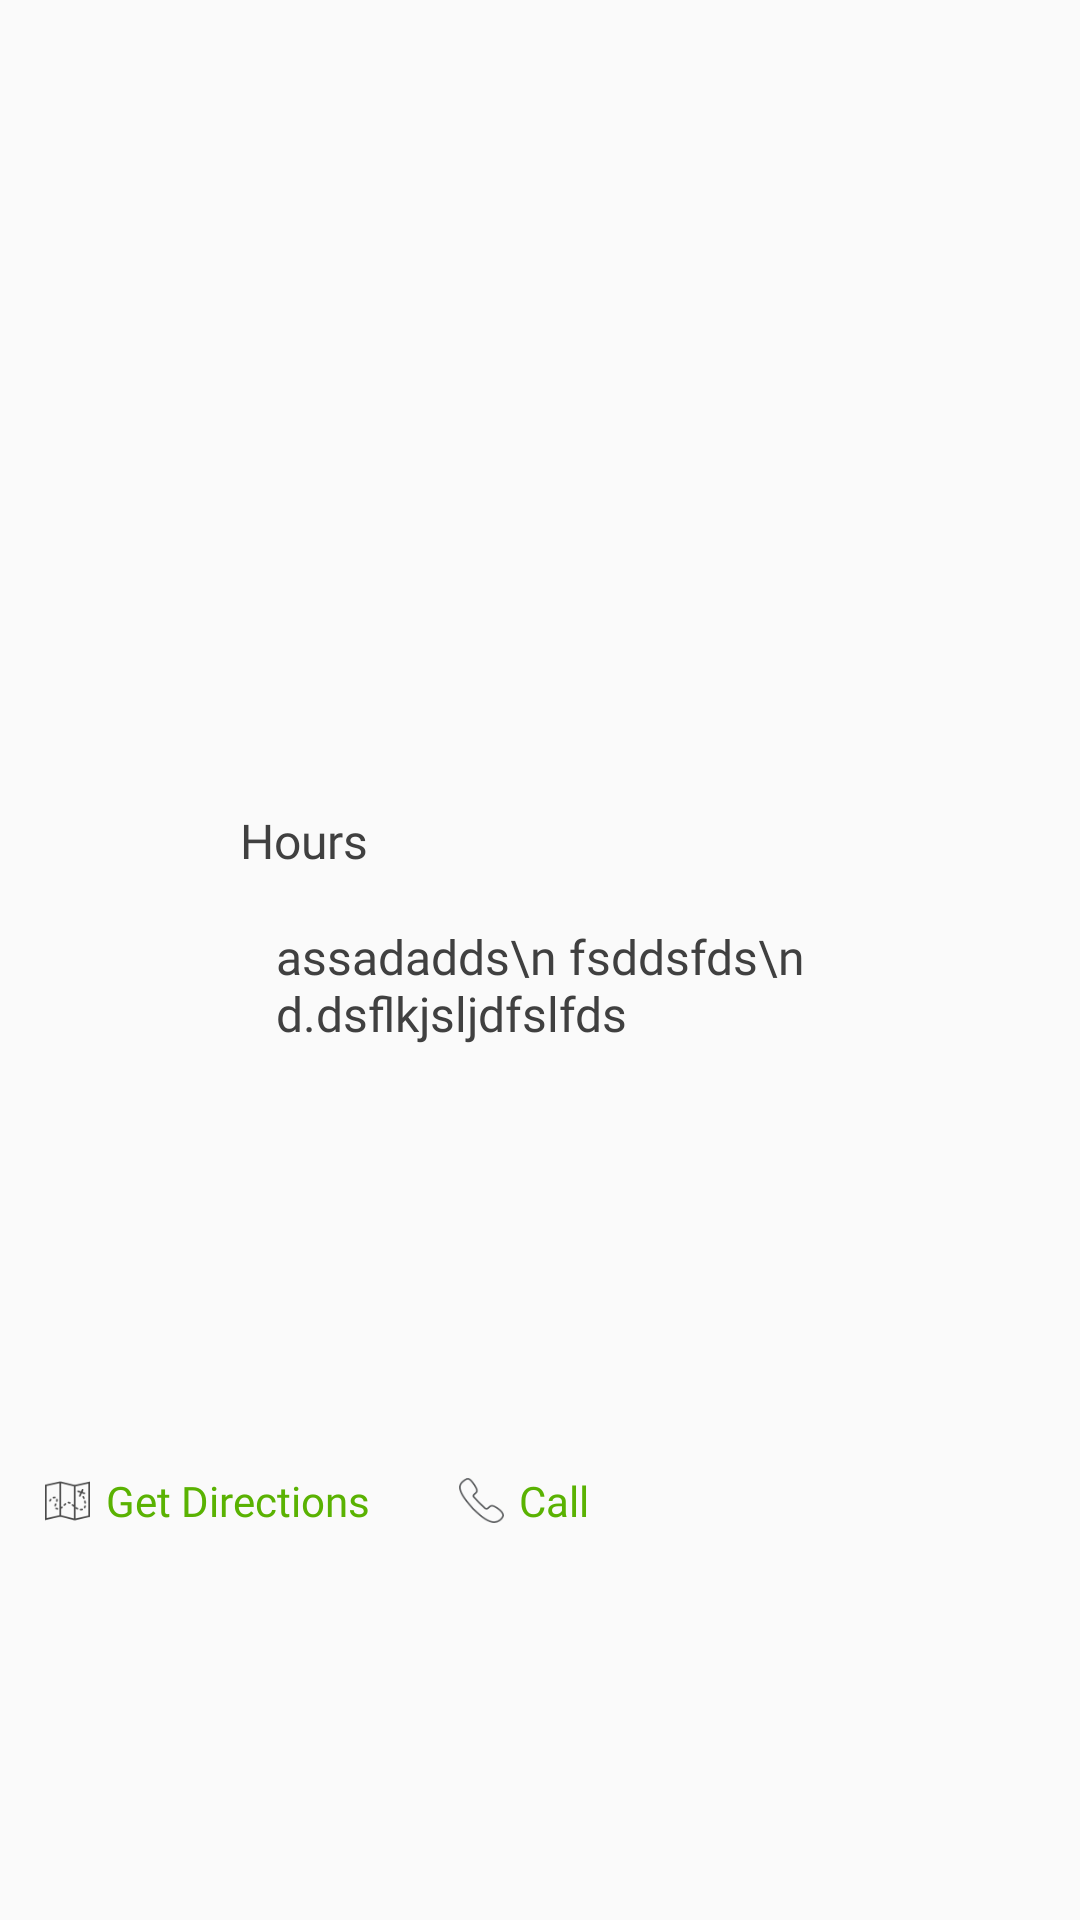

Screen size 1080w x 1920h. Icon name, then its center in pixels as [x,y]:
map: [67,1501]
phone: [481,1500]
